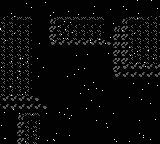no-caminable: (0, 18, 48, 108), (113, 18, 159, 78), (50, 21, 112, 45), (17, 113, 31, 143)
